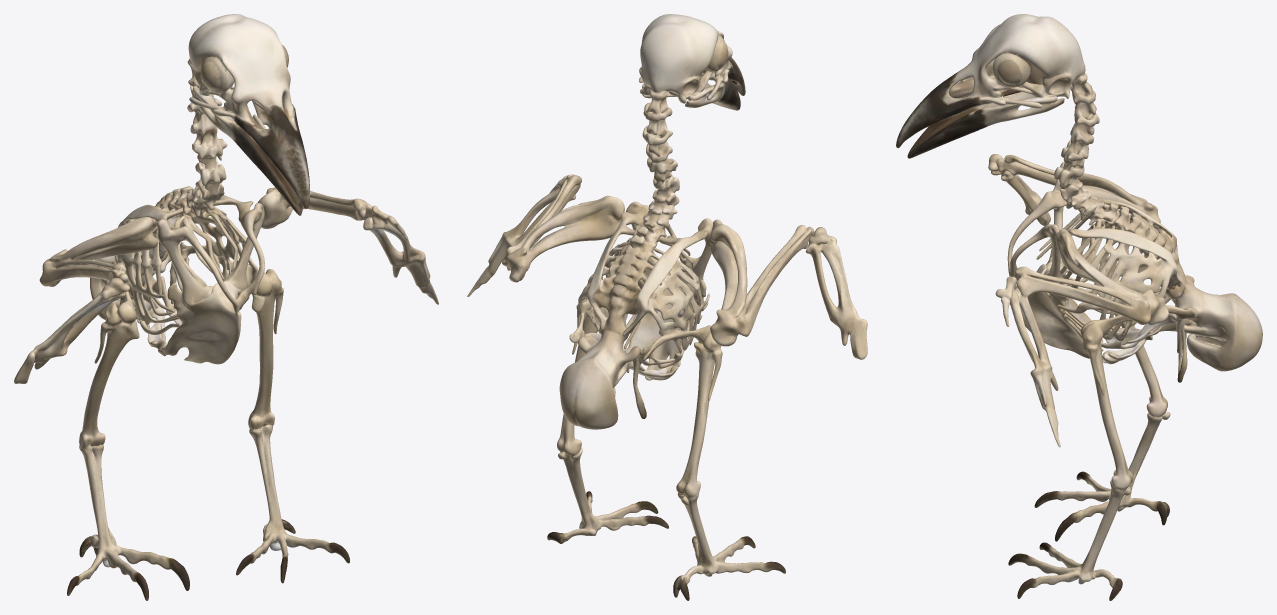
The picture shows the model from 3 angles, left to right: view 1: azimuth 30°, elevation 25°; view 2: azimuth 150°, elevation 25°; view 3: azimuth 270°, elevation 25°; orthographic projection. The views are drawn at different scales.
Parts seen in each view (by area): view 1: Mesh_0; view 2: Mesh_0; view 3: Mesh_0.
Part boxes in pixels (box(x1,y1,x2,y2)): Mesh_0: box(14, 14, 438, 600); Mesh_0: box(467, 14, 867, 600); Mesh_0: box(896, 14, 1262, 600).
Bounding box in the file's own units: 1.51 × 1.91 × 1.18.
1 material, 1 textured.
